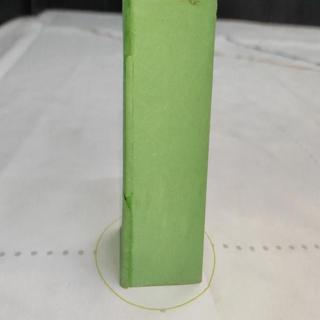greenbox: (120, 0, 217, 285)
